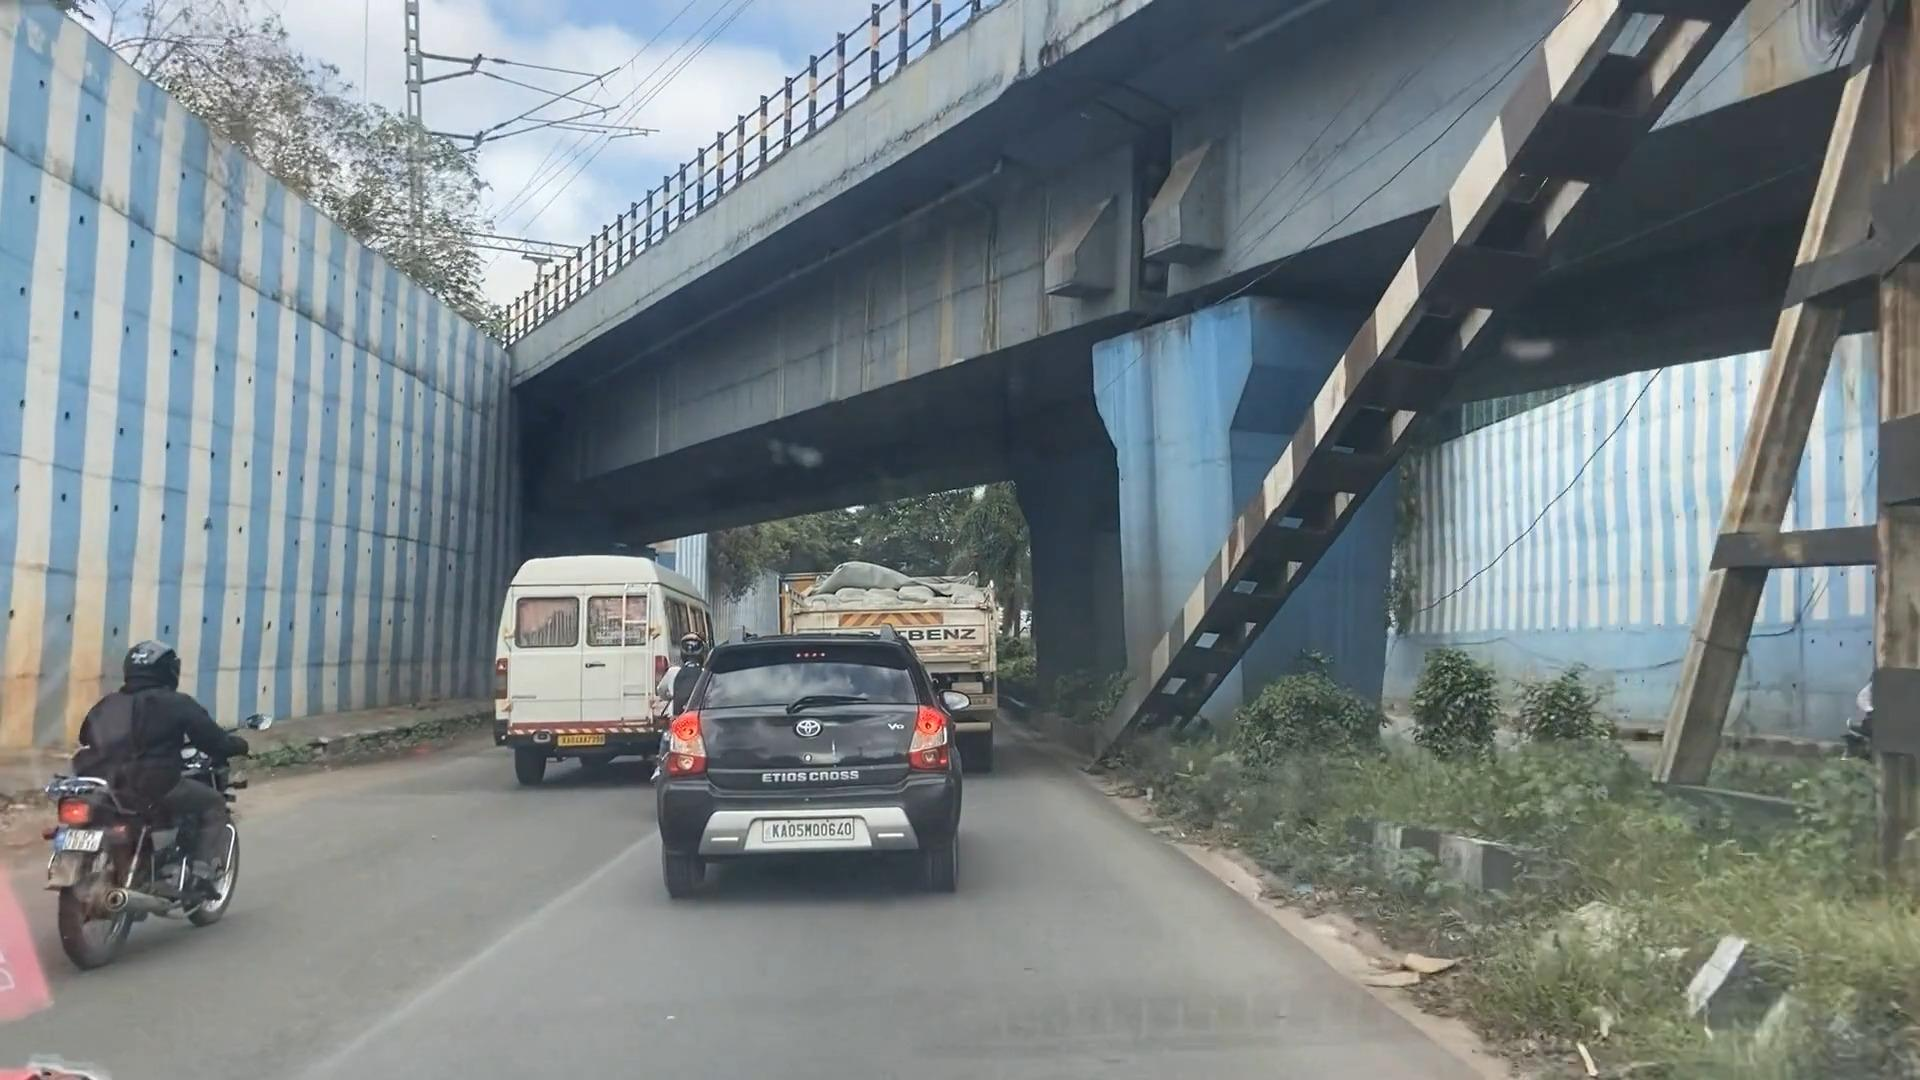HMV: (485, 556, 695, 799)
LMV: (33, 642, 310, 969), (658, 620, 968, 890)
